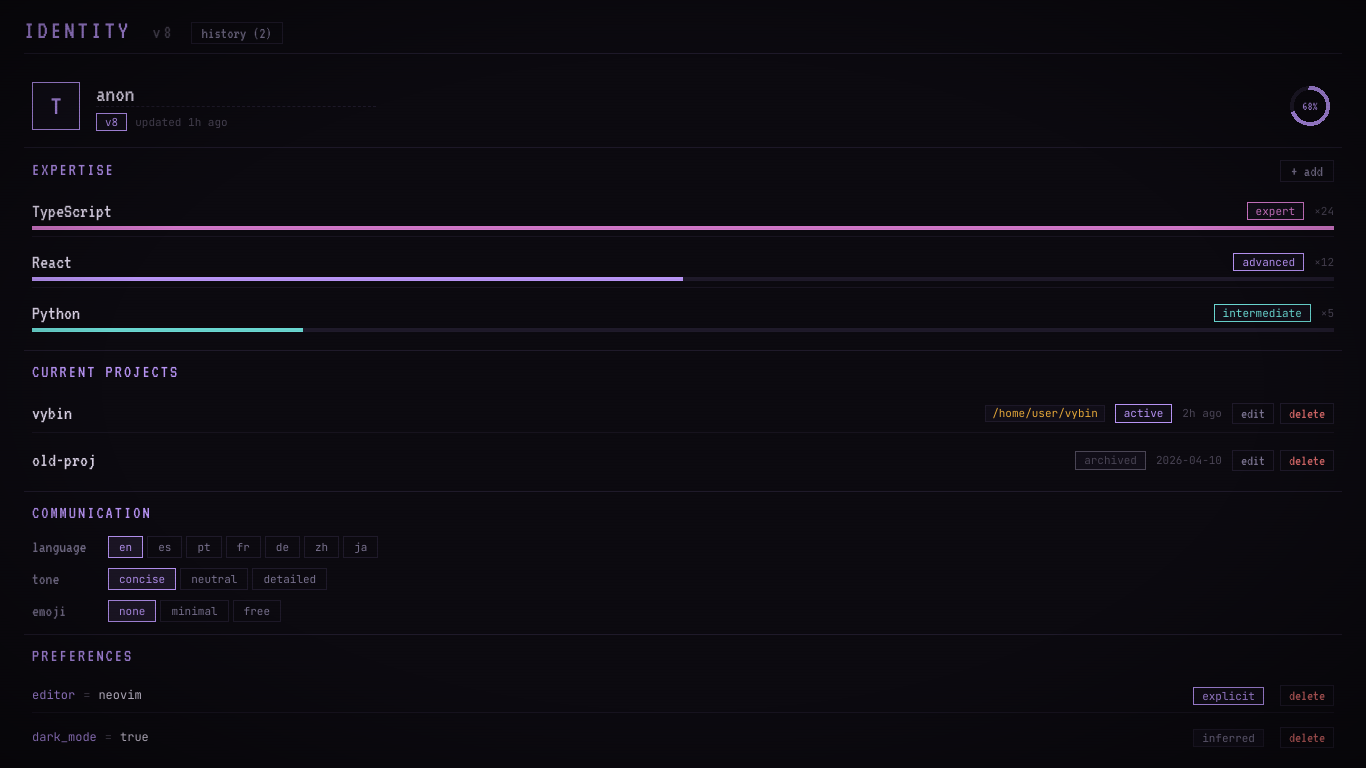
Test case: UserModelView — expertise interactions › expands expertise row on click to reveal action buttons
The width and height of the screenshot is (1366, 768).
Click the text "TypeScript" at coordinates (72, 211), box top-left (32, 200), bottom-right (1334, 222)
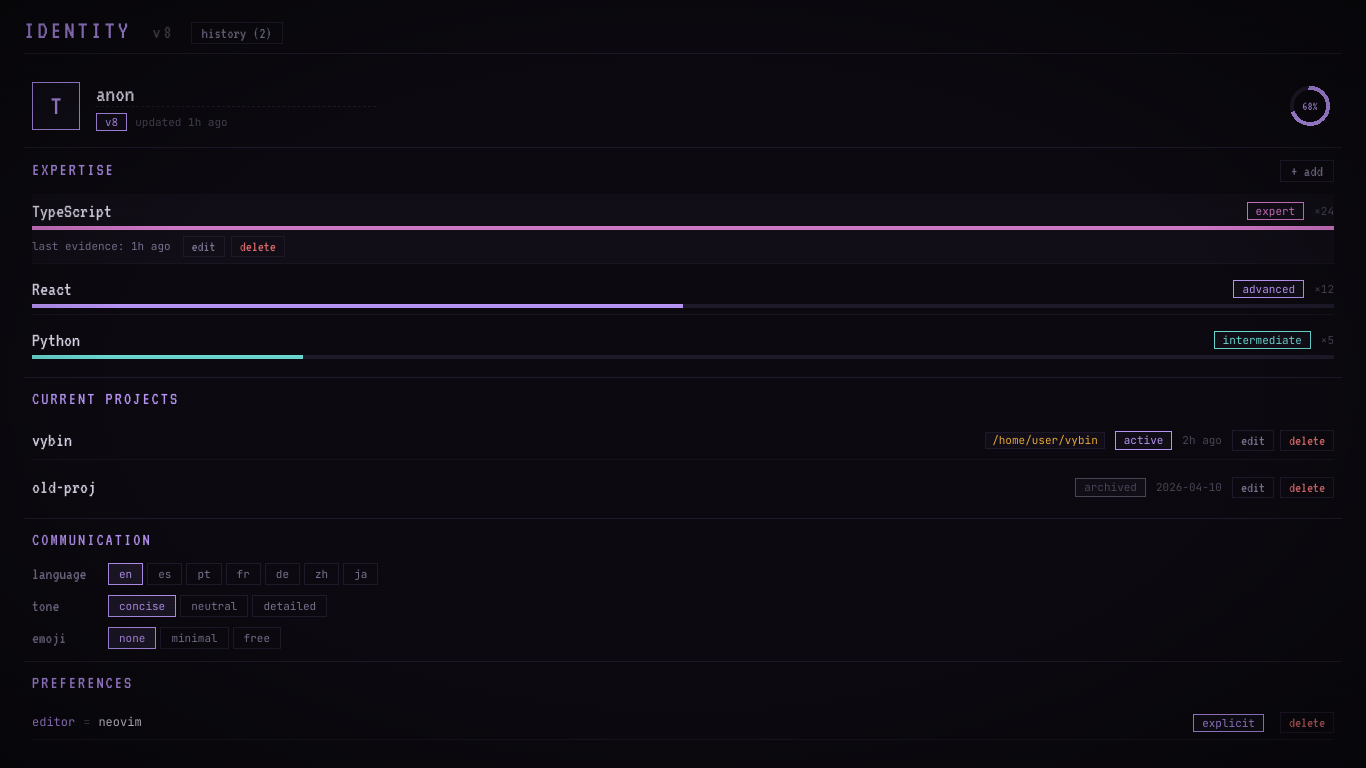
Expected: the button "delete" in the row of "last evidence:" is shown, top-left (231, 236), bottom-right (285, 257)
Now the button "edit" in the row of "last evidence:" is shown, box top-left (183, 236), bottom-right (225, 257)
